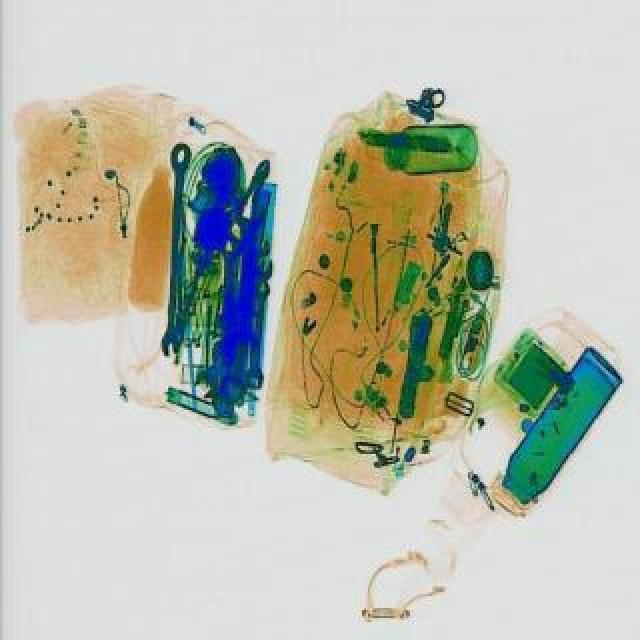scissors: (158, 142, 190, 356), (216, 284, 258, 406), (186, 336, 246, 396), (244, 276, 268, 388)
wrench: (208, 154, 288, 260)
